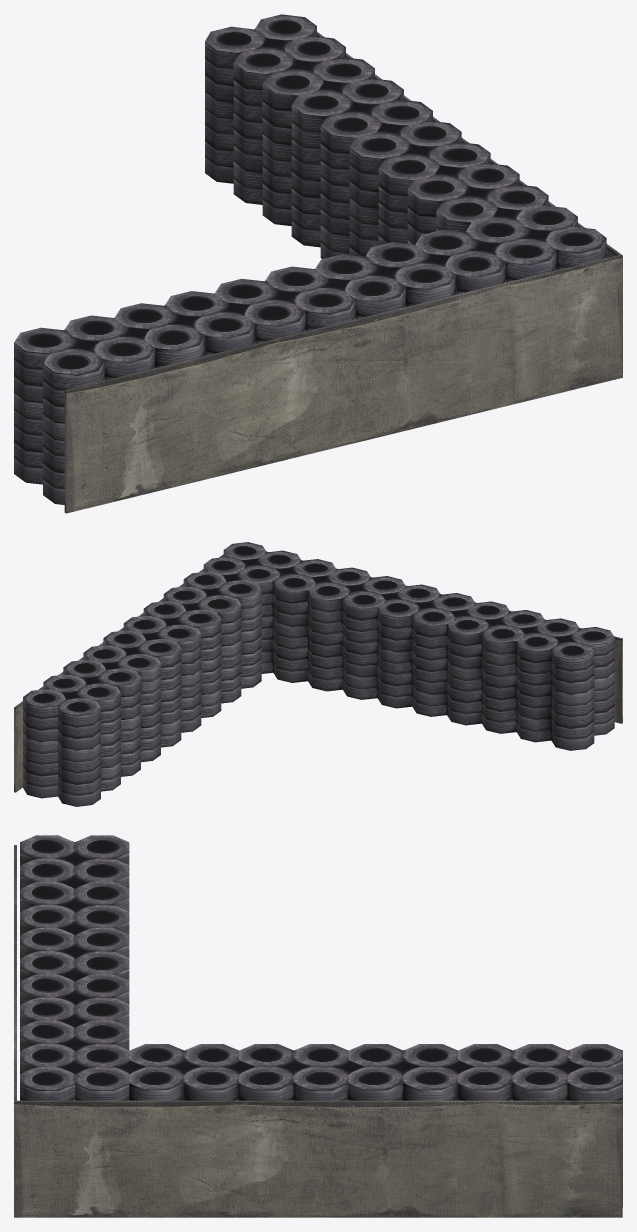
The model's file is Tyre_Wall_Covered_Corner_B.fbx.
3 renders of one model, top to bottom at view 1: azimuth 30°, elevation 25°; view 2: azimuth 150°, elevation 25°; view 3: azimuth 270°, elevation 25°, orthographic. The views are drawn at different scales.
Visible parts, largest first — view 1: Tyres, Cover; view 2: Tyres, Cover; view 3: Cover, Tyres.
Boxes of the visible parts, x1,y1,x2,y2 form: Tyres: [14, 14, 606, 504]; Cover: [64, 32, 622, 513]; Tyres: [23, 542, 614, 806]; Cover: [14, 551, 622, 792]; Cover: [14, 845, 622, 1217]; Tyres: [20, 835, 622, 1207].
Size of the model in its own units: 504 by 115 by 505.
